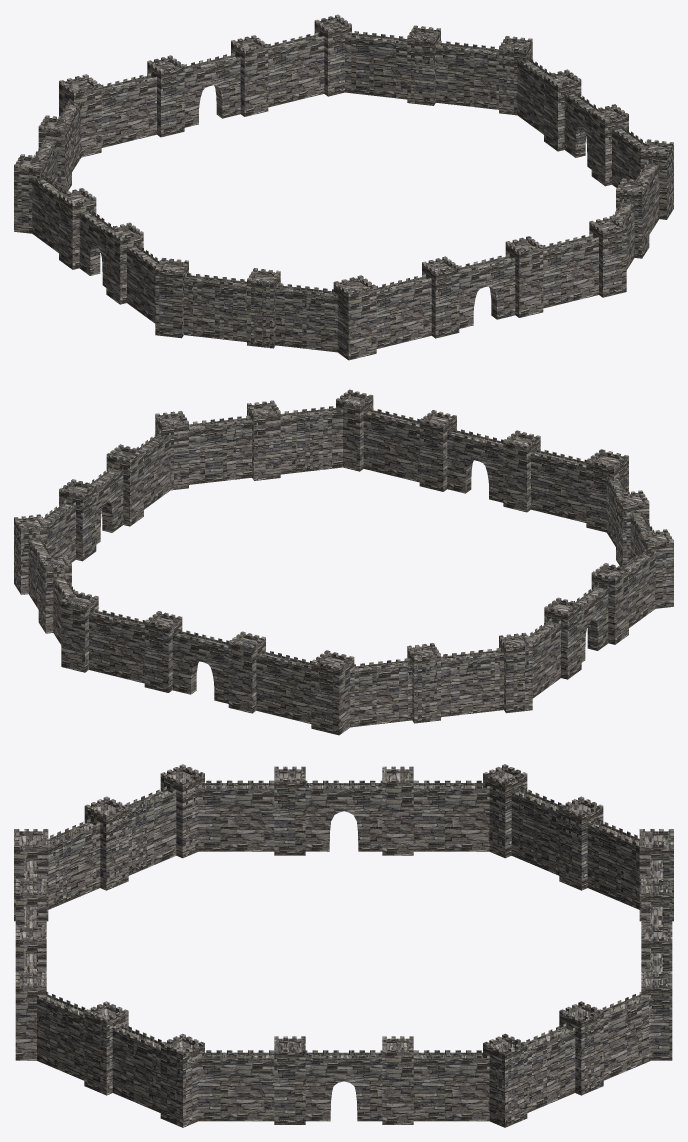
Rendered from muro-albion.obj.
3 renders of one model, top to bottom at view 1: azimuth 30°, elevation 25°; view 2: azimuth 150°, elevation 25°; view 3: azimuth 270°, elevation 25°, orthographic. The views are drawn at different scales.
Parts seen in each view (by area): view 1: muro; view 2: muro; view 3: muro.
Boxes of the visible parts, x1=… form: muro: x1=14, y1=14, x2=673, y2=360; muro: x1=14, y1=389, x2=673, y2=735; muro: x1=14, y1=764, x2=673, y2=1127.
Size of the model in its own units: 27.68 by 3.44 by 26.79.
